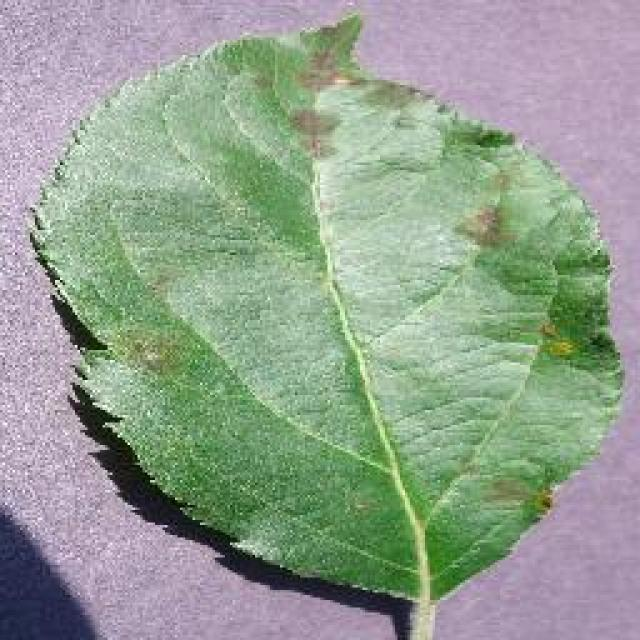apple scab disease: (25, 10, 625, 638)
